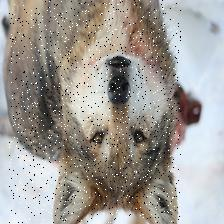WOLF: (9, 0, 181, 224)
